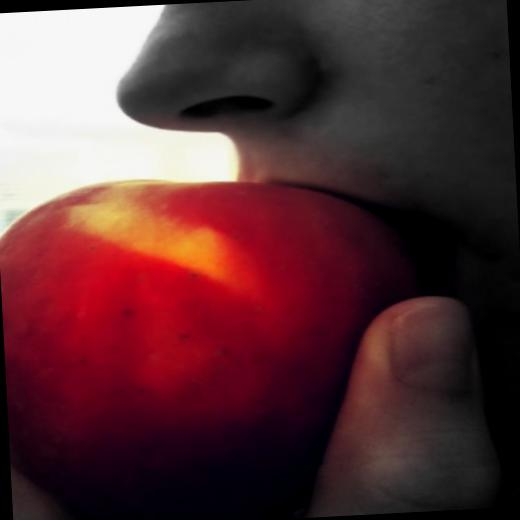Apple: (0, 126, 433, 506)
